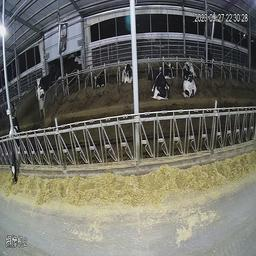cow: (6, 110, 21, 199), (145, 65, 172, 106), (35, 71, 62, 107), (177, 65, 200, 103), (90, 61, 107, 98), (119, 54, 132, 95), (203, 41, 217, 78)
